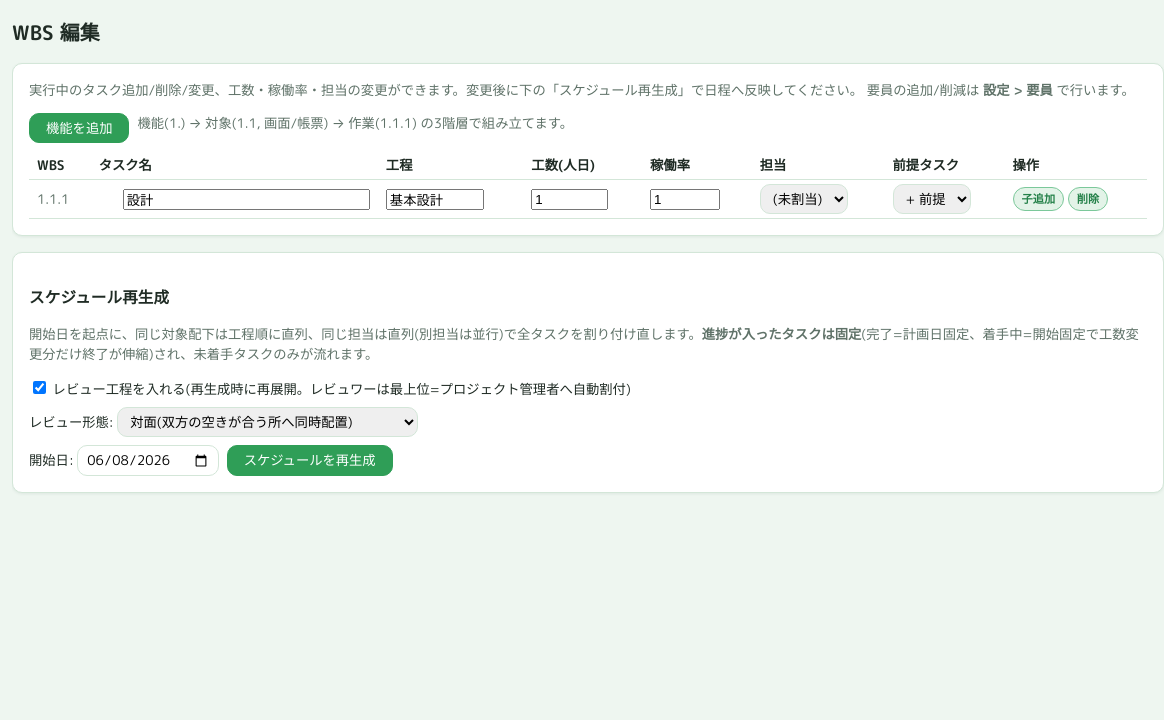
it: ManageWbsPage (US-041) › WBS編集テーブルを表示し、スケジュール再生成で schedule API を呼ぶ
This screenshot has width=1164, height=720.
Expected: the field named "1.1.1 の名称" is shown, 123,189 -> 370,210
Step 1. Click the button "スケジュールを再生成" → (310, 460), box 227,445 -> 393,476
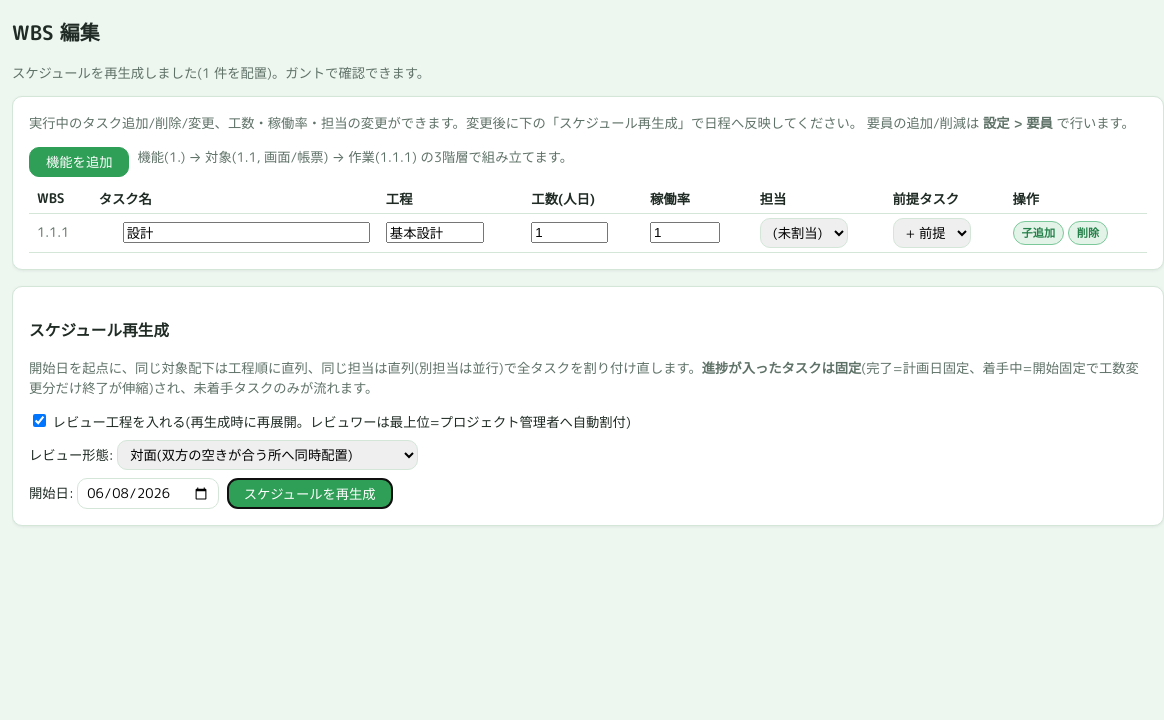
Result: the text "スケジュールを再生成しました(1 件を配置)。ガントで確認できます。" is shown at 12,64 -> 430,82
